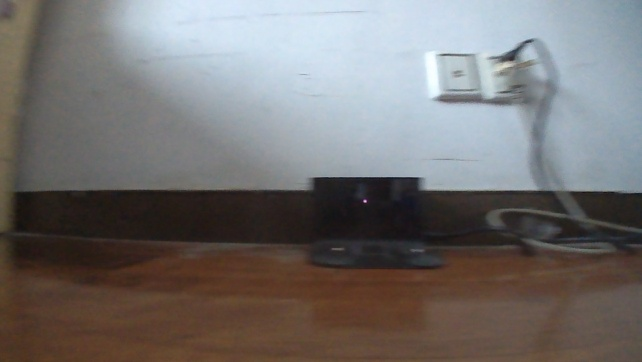charger: (302, 172, 445, 270)
wire: (424, 194, 640, 258)
